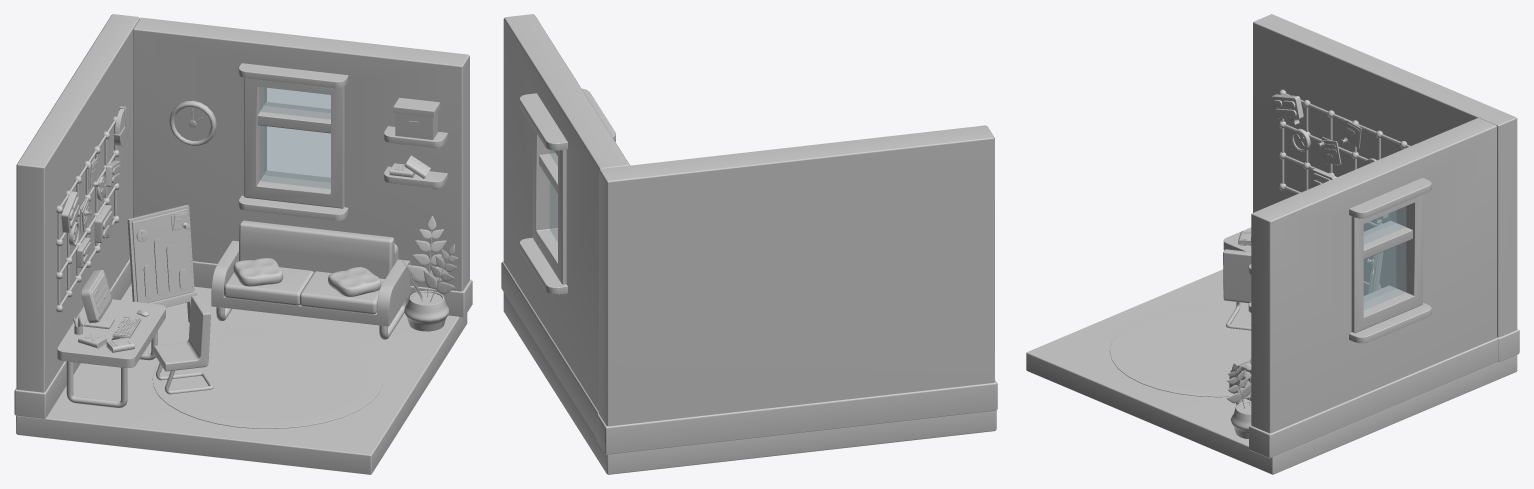
File: Office_24.fbx
3 renders of one model, left to right at view 1: azimuth 30°, elevation 25°; view 2: azimuth 150°, elevation 25°; view 3: azimuth 270°, elevation 25°, orthographic. The views are drawn at different scales.
Visible parts, largest first — view 1: Room_24_Wall_4, Room_24_Floor_1, Room_24_Wall_2, Room_24_Carpet_1, Room_24_Window_1, Room_24_Couch_1, Room_24_Statistics_board, Room_24_Table_1, Room_24_Plant_1, Room_24_Chair_1, Room_24_Moodboard_1, Room_24_Clock_1 (+9 smaller); view 2: Room_24_Wall_2, Room_24_Wall_4, Room_24_Floor_1, Room_24_Window_1; view 3: Room_24_Wall_4, Room_24_Wall_2, Room_24_Floor_1, Room_24_Window_1, Room_24_Carpet_1, Room_24_Moodboard_1, Room_24_Chair_1, Room_24_Plant_1, Room_24_Note_1.
Boxes of the visible parts, bbox=[...] form: Room_24_Wall_4: bbox=[133, 17, 472, 317]; Room_24_Floor_1: bbox=[16, 283, 467, 474]; Room_24_Wall_2: bbox=[14, 14, 139, 418]; Room_24_Carpet_1: bbox=[152, 331, 383, 428]; Room_24_Window_1: bbox=[238, 63, 348, 220]; Room_24_Couch_1: bbox=[211, 220, 410, 339]; Room_24_Statistics_board: bbox=[127, 205, 196, 322]; Room_24_Table_1: bbox=[57, 299, 165, 407]; Room_24_Plant_1: bbox=[402, 216, 458, 331]; Room_24_Chair_1: bbox=[153, 295, 213, 394]; Room_24_Moodboard_1: bbox=[56, 116, 119, 312]; Room_24_Clock_1: bbox=[169, 100, 216, 145]; Room_24_Wall_2: bbox=[596, 125, 997, 454]; Room_24_Wall_4: bbox=[501, 14, 629, 437]; Room_24_Floor_1: bbox=[503, 292, 996, 474]; Room_24_Window_1: bbox=[519, 88, 615, 294]; Room_24_Wall_4: bbox=[1249, 118, 1498, 458]; Room_24_Wall_2: bbox=[1253, 14, 1519, 362]; Room_24_Floor_1: bbox=[1026, 269, 1517, 474]; Room_24_Window_1: bbox=[1349, 178, 1431, 343]; Room_24_Carpet_1: bbox=[1109, 304, 1251, 397]; Room_24_Moodboard_1: bbox=[1278, 89, 1410, 226]; Room_24_Chair_1: bbox=[1223, 249, 1251, 330]; Room_24_Plant_1: bbox=[1226, 358, 1251, 439]; Room_24_Note_1: bbox=[1271, 94, 1303, 124].
Bounding box in the file's own units: 709 × 402 × 705.
